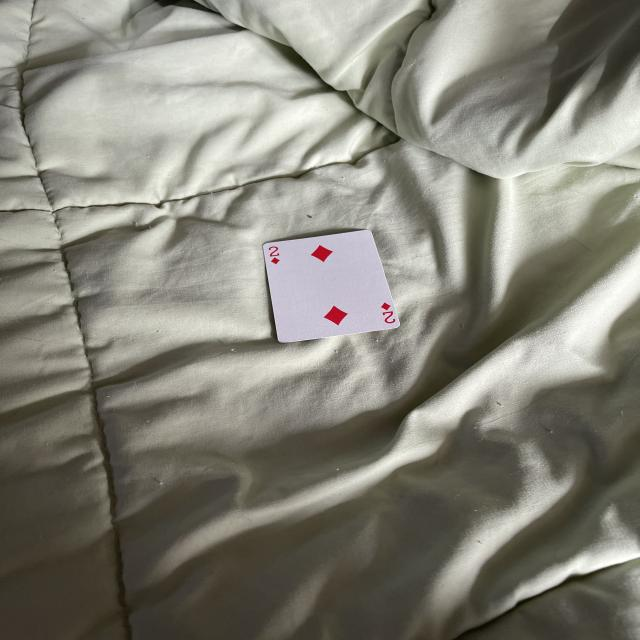2 of diamonds: (264, 231, 400, 343)
